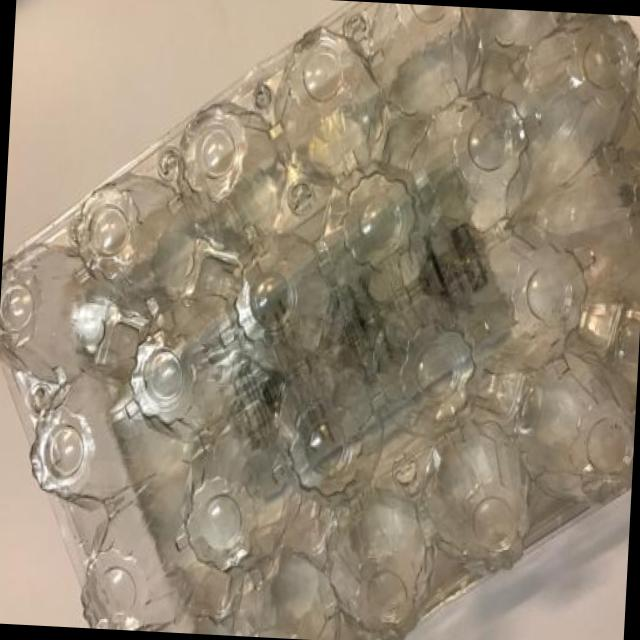Clamshell: (0, 0, 640, 640)
Label: (185, 130, 530, 535)
